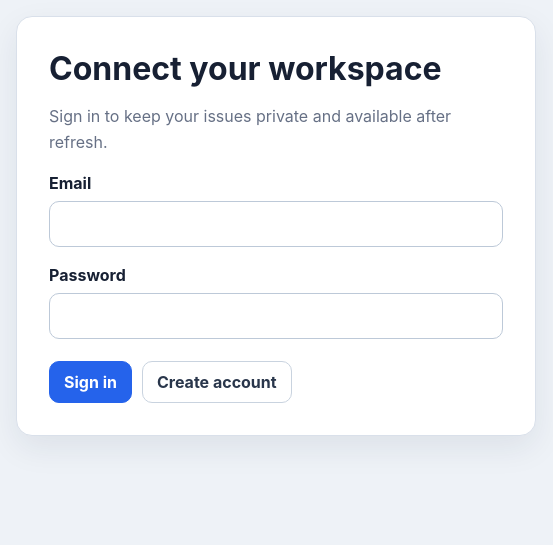
Test: AuthPanel › shows authentication errors without clearing the form
In the field labelled "Email": (276, 224) 49,201 -> 503,247, type "buyer@example.com"
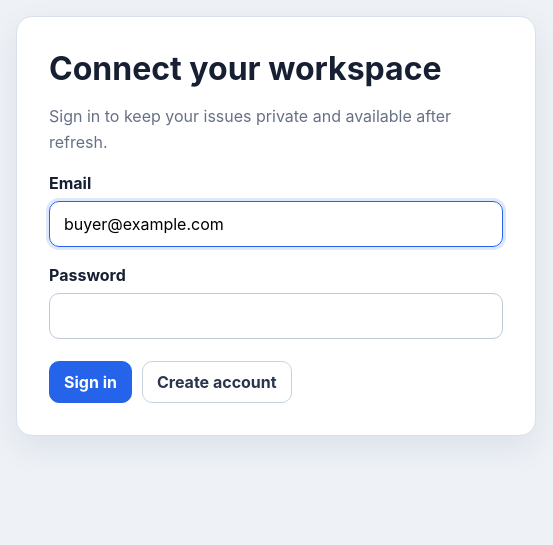
In the password field labelled "Password": (276, 316) 49,293 -> 503,339, type "wrong-password"
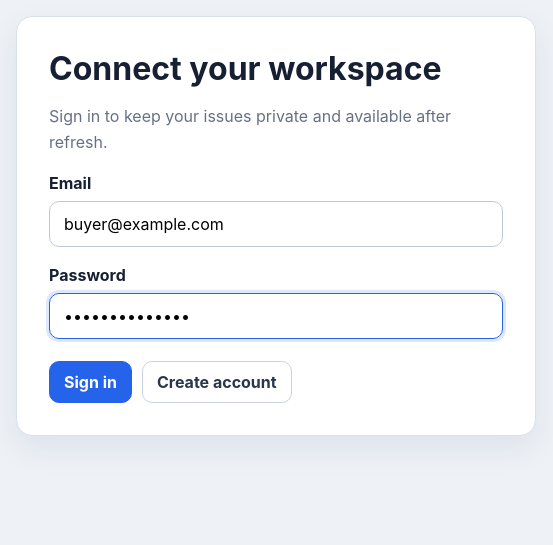
Click the button "Sign in": (90, 382) 49,361 -> 132,403
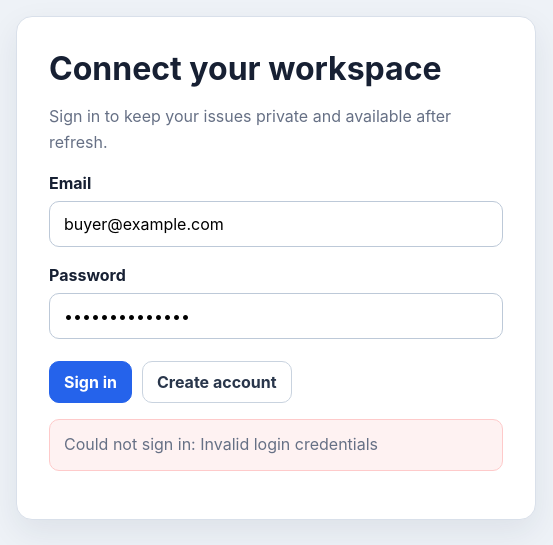
Result: the text "Could not sign in: Invalid login credentials" is shown at 49,419 -> 503,471
